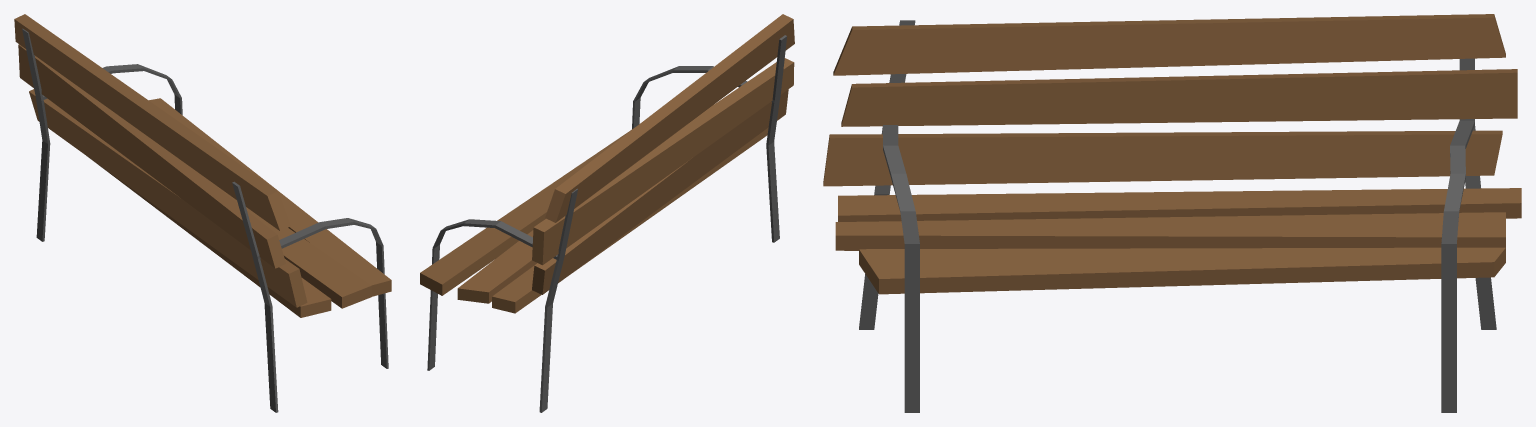
Rendered from 0BancoExterior.fbx.
3 renders of one model, left to right at view 1: azimuth 30°, elevation 25°; view 2: azimuth 150°, elevation 25°; view 3: azimuth 270°, elevation 25°, orthographic. The views are drawn at different scales.
Visible parts, largest first — view 1: Cube.001; view 2: Cube.001; view 3: Cube.001.
Part boxes in pixels (left/top/right/bottom): Cube.001: left=14, top=14, right=391, bottom=412; Cube.001: left=420, top=14, right=794, bottom=412; Cube.001: left=823, top=14, right=1521, bottom=412.
Bounding box in the file's own units: 35.97 × 51.1 × 107.
